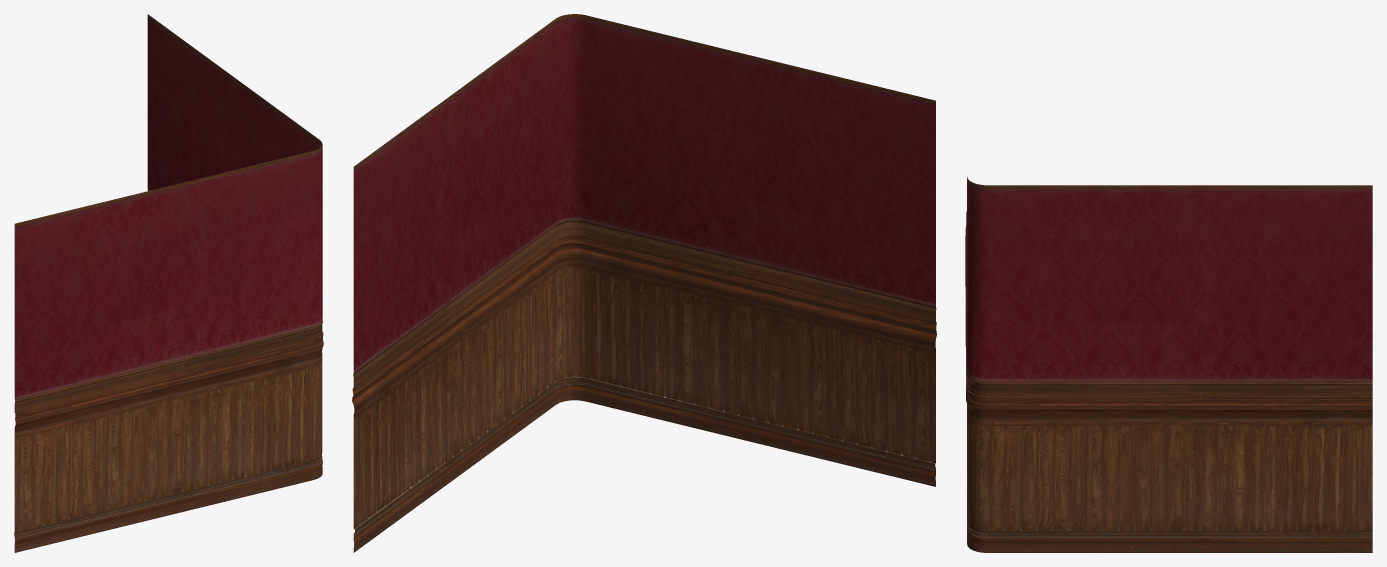
File: Wall_CornerOutside.fbx
3 views of the same model, side by side, from view 1: azimuth 30°, elevation 25°; view 2: azimuth 150°, elevation 25°; view 3: azimuth 270°, elevation 25° (orthographic). The views are drawn at different scales.
Visible parts, largest first — view 1: Wall_CornerOutside; view 2: Wall_CornerOutside; view 3: Wall_CornerOutside.
Boxes of the visible parts, x1=… form: Wall_CornerOutside: x1=14, y1=14, x2=323, y2=552; Wall_CornerOutside: x1=352, y1=14, x2=936, y2=552; Wall_CornerOutside: x1=965, y1=177, x2=1372, y2=552.
Bounding box in the file's own units: 201 × 200 × 201.
